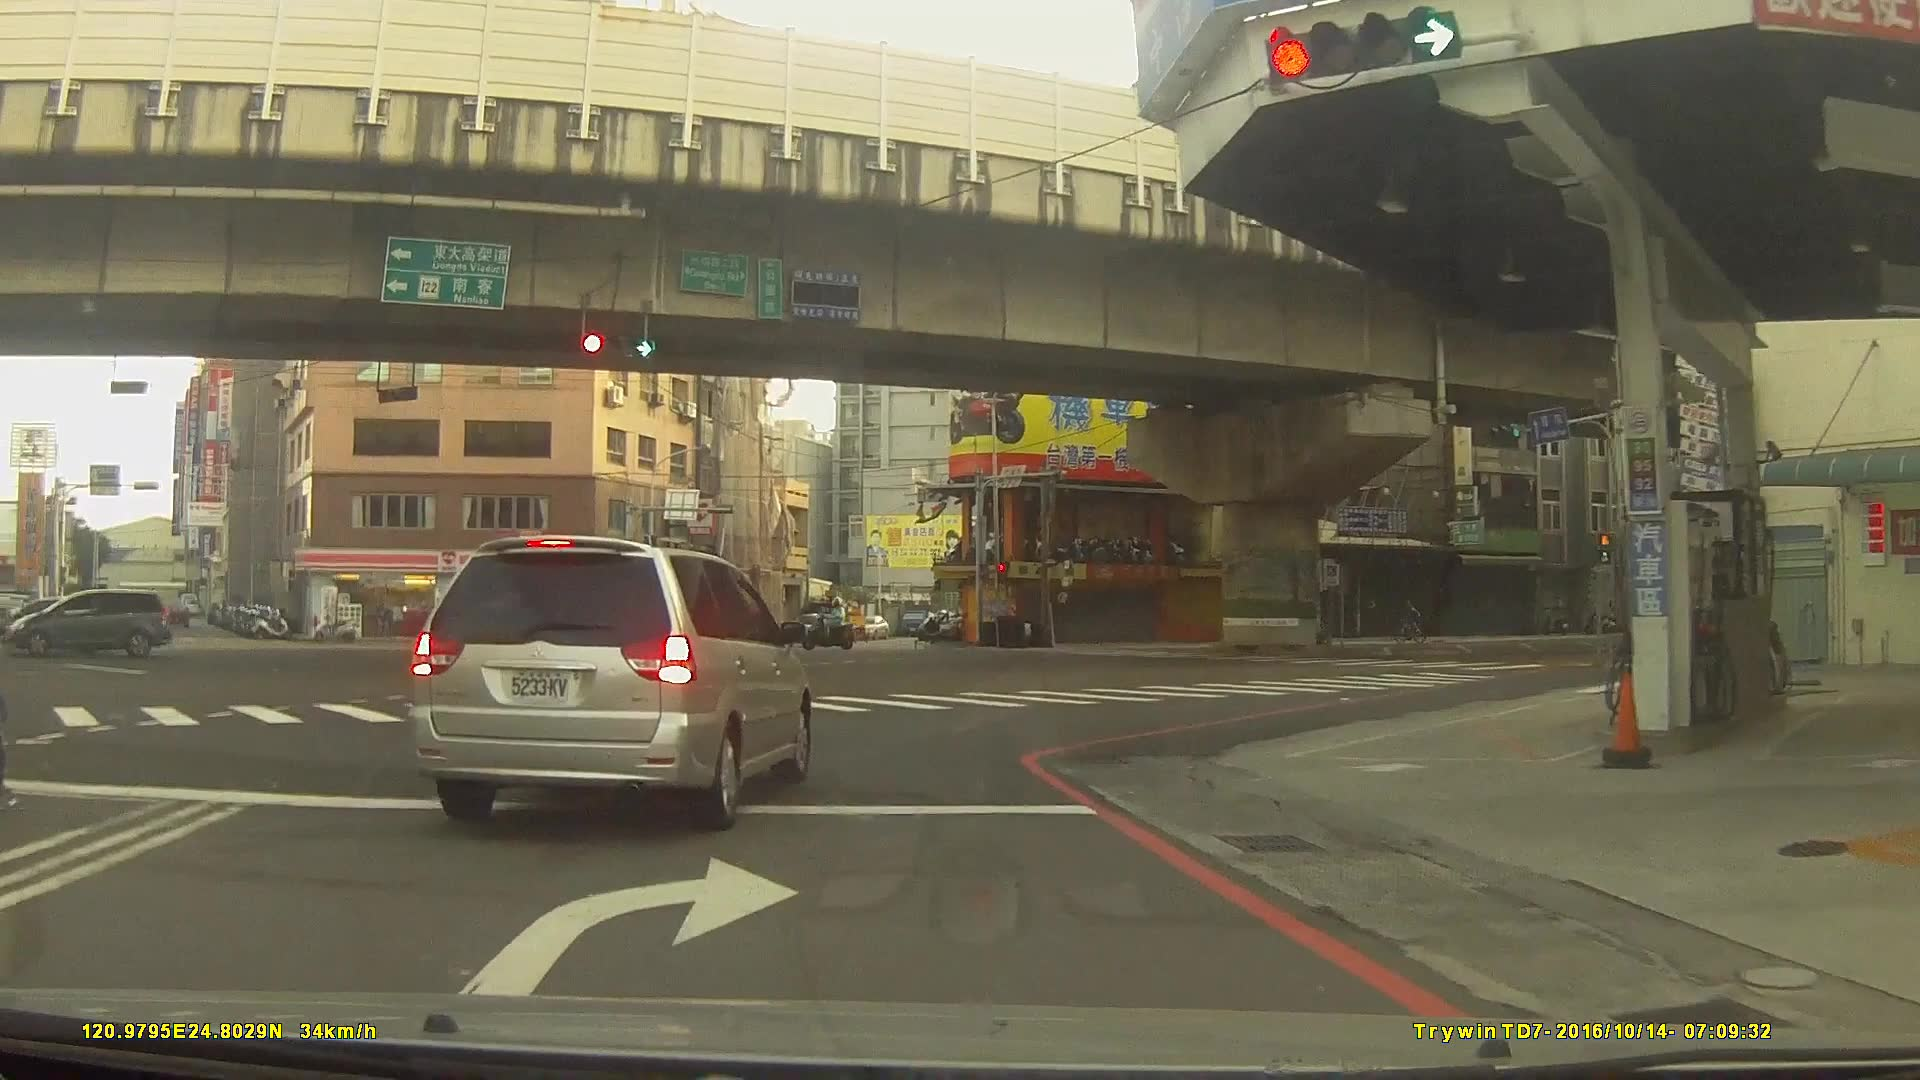rider: (800, 598, 854, 647)
vehicle: (411, 533, 812, 831), (9, 586, 168, 654), (789, 610, 850, 645), (543, 606, 605, 633), (157, 598, 190, 630)
